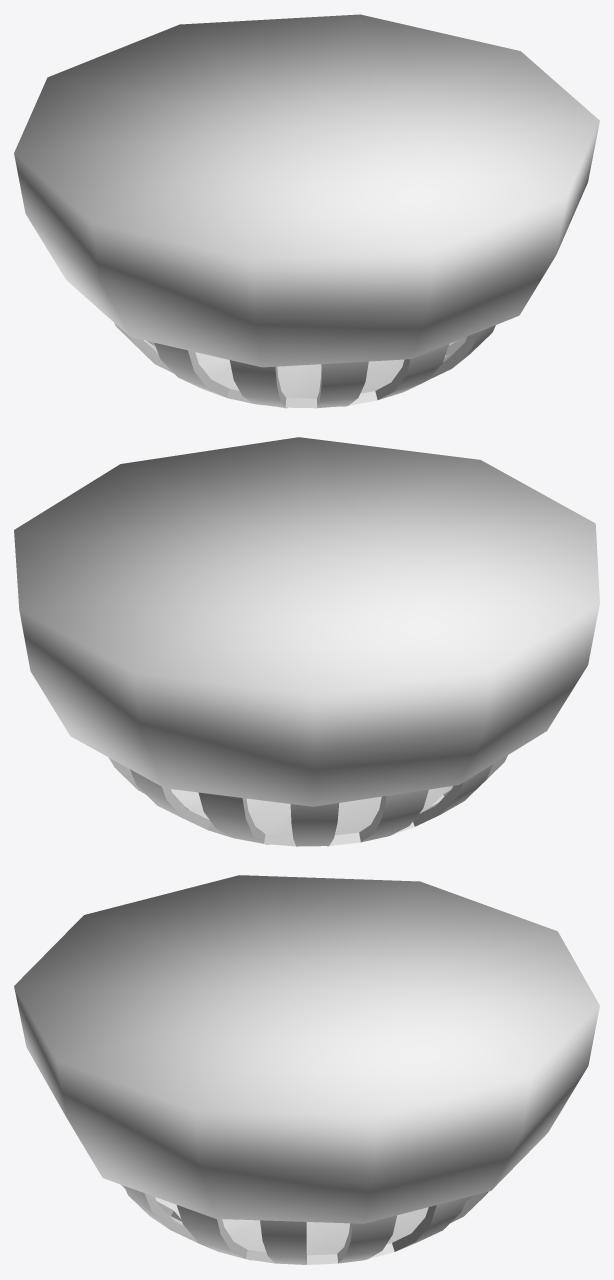
3 views of the same model, one above another, from view 1: azimuth 30°, elevation 25°; view 2: azimuth 150°, elevation 25°; view 3: azimuth 270°, elevation 25° (orthographic). The views are drawn at different scales.
Visible parts, largest first — view 1: SD; view 2: SD; view 3: SD.
Part boxes in pixels (<box>): SD: <box>14,14,599,408</box>; SD: <box>14,437,599,846</box>; SD: <box>14,875,599,1264</box>.
Bounding box in the file's own units: 0.1026 × 0.0485 × 0.1053.
1 material, 1 textured.
